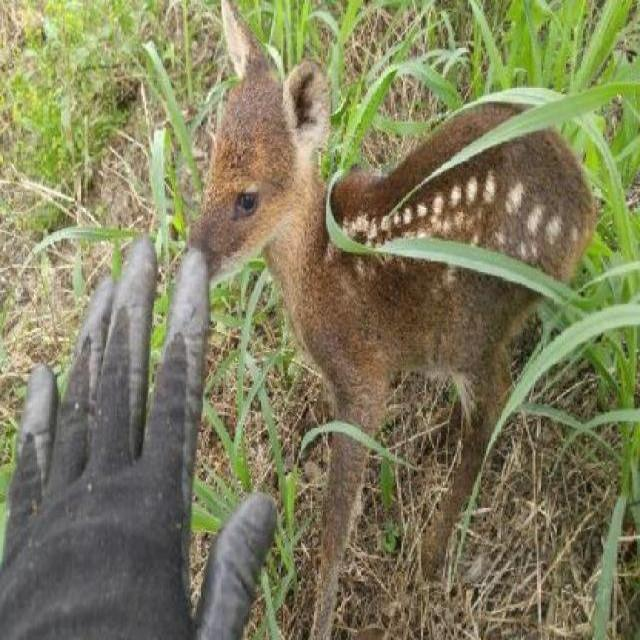deer: (178, 1, 600, 639)
